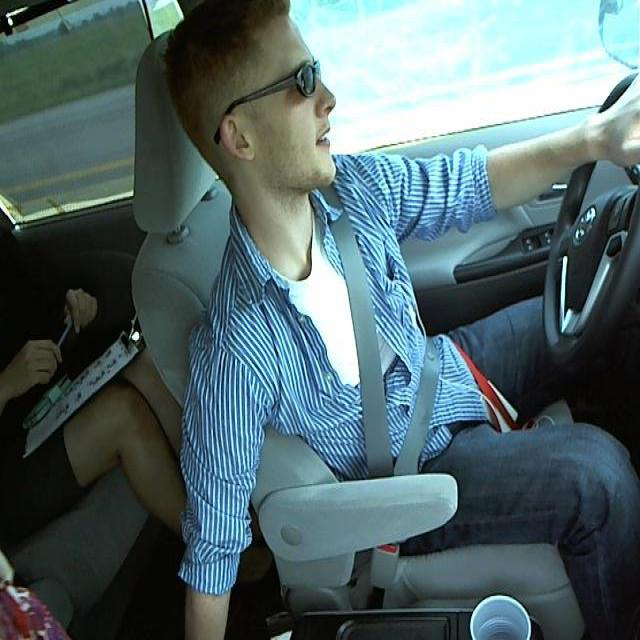seatbelt: (330, 204, 459, 476)
